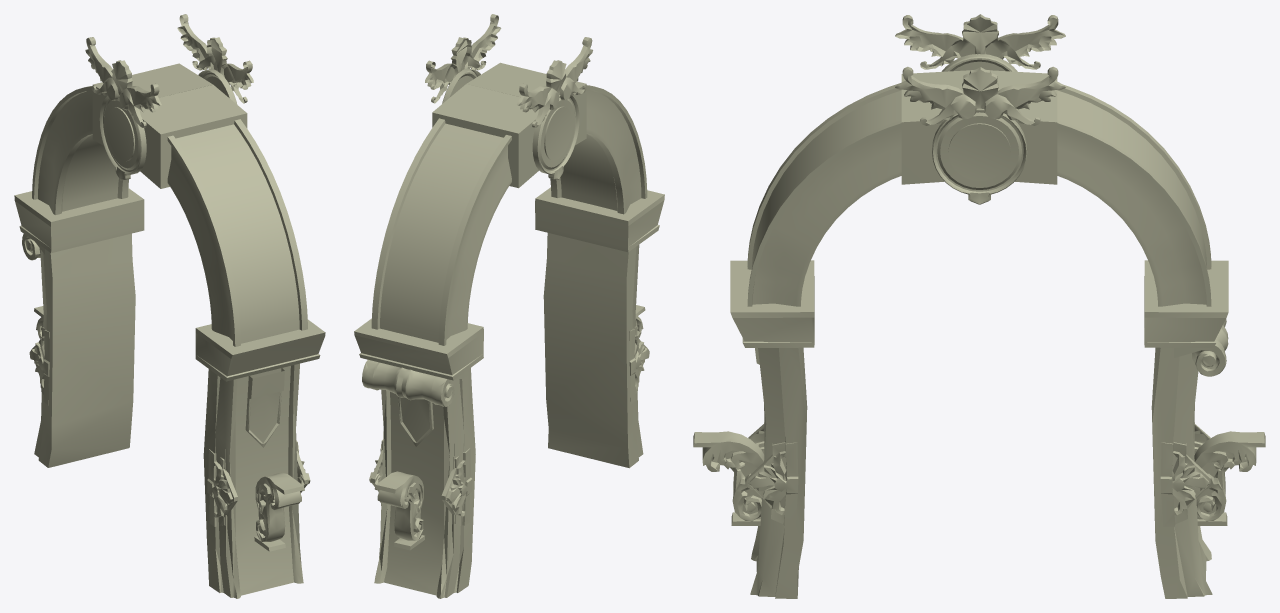
File: SM_alterdeco.fbx
3 views of the same model, side by side, from view 1: azimuth 30°, elevation 25°; view 2: azimuth 150°, elevation 25°; view 3: azimuth 270°, elevation 25° (orthographic). The views are drawn at different scales.
Visible parts, largest first — view 1: SM_alterdoor.002; view 2: SM_alterdoor.002; view 3: SM_alterdoor.002.
Part boxes in pixels (left/top/right/bottom): SM_alterdoor.002: left=14, top=14, right=325, bottom=598; SM_alterdoor.002: left=354, top=14, right=664, bottom=598; SM_alterdoor.002: left=693, top=14, right=1265, bottom=598.
Size of the model in its own units: 148 by 621 by 603.
